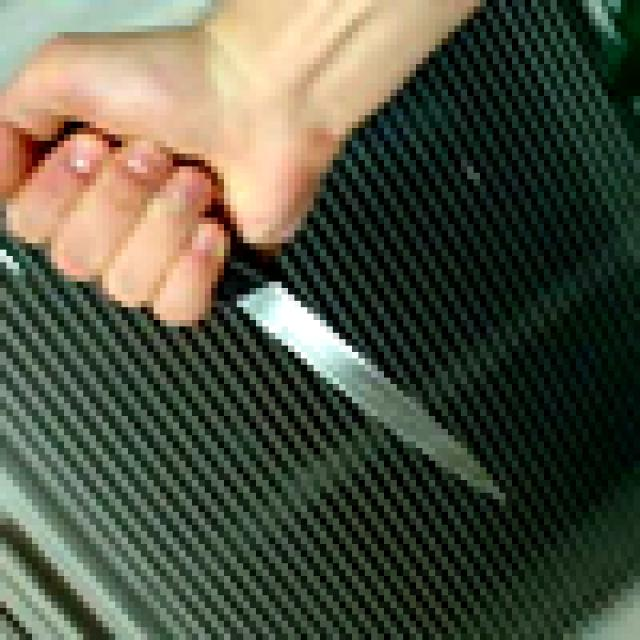Knife: (45, 134, 499, 500)
